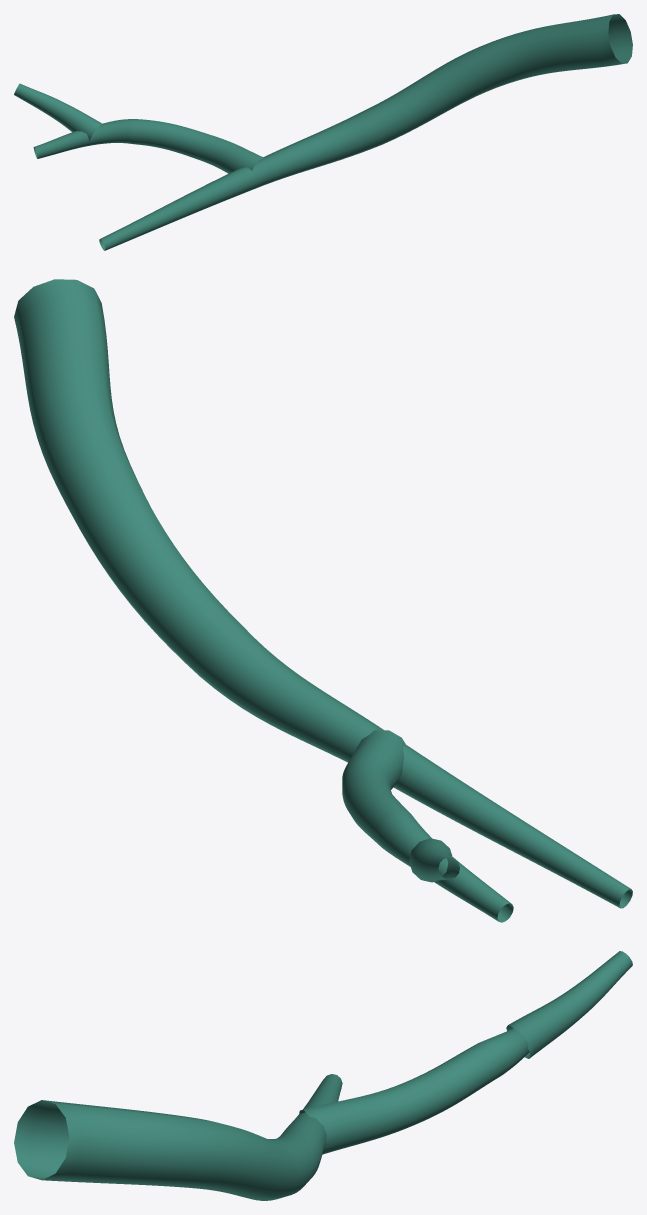
3 views of the same model, one above another, from view 1: azimuth 30°, elevation 25°; view 2: azimuth 150°, elevation 25°; view 3: azimuth 270°, elevation 25° (orthographic). The views are drawn at different scales.
Parts seen in each view (by area): view 1: 右肺前底段支气管（第8段）; view 2: 右肺前底段支气管（第8段）; view 3: 右肺前底段支气管（第8段）.
Part boxes in pixels (x1=…): 右肺前底段支气管（第8段）: x1=14, y1=14, x2=632, y2=250; 右肺前底段支气管（第8段）: x1=14, y1=279, x2=632, y2=922; 右肺前底段支气管（第8段）: x1=14, y1=951, x2=632, y2=1200.
Size of the model in its own units: 0.1166 by 0.0498 by 0.0905.
